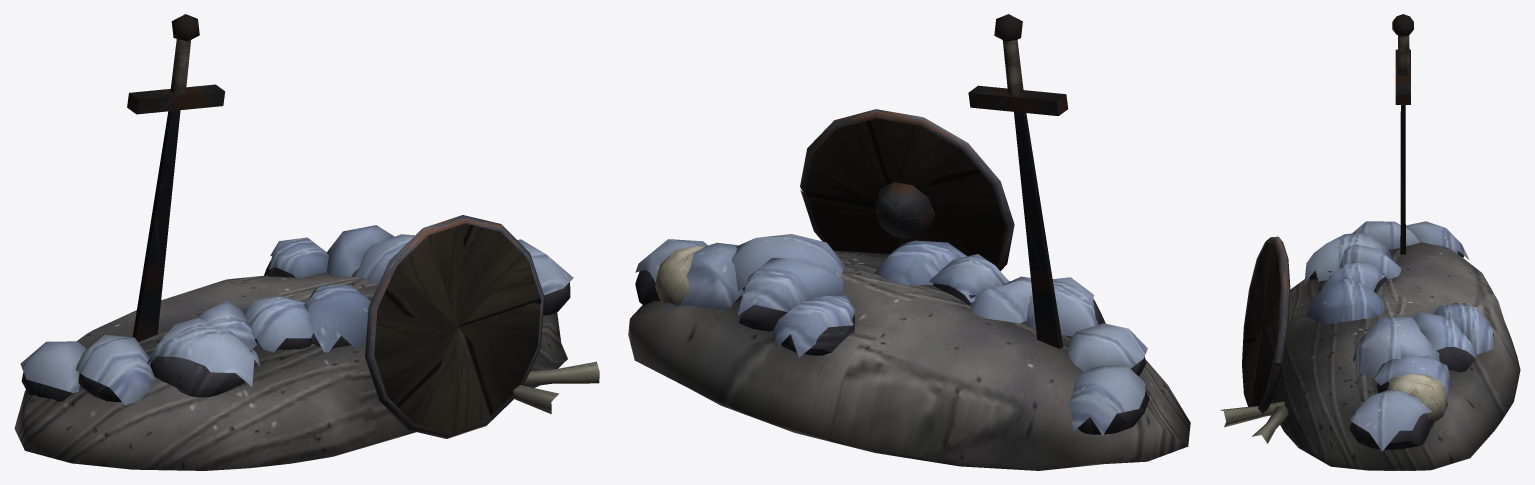
File: helheim_cairn_b.glb
3 renders of one model, left to right at view 1: azimuth 30°, elevation 25°; view 2: azimuth 150°, elevation 25°; view 3: azimuth 270°, elevation 25°, orthographic. The views are drawn at different scales.
Visible parts, largest first — view 1: helheim_cairn_b; view 2: helheim_cairn_b; view 3: helheim_cairn_b.
Boxes of the visible parts, left/top/right/bottom form: helheim_cairn_b: left=14, top=14, right=599, bottom=470; helheim_cairn_b: left=628, top=14, right=1190, bottom=470; helheim_cairn_b: left=1220, top=14, right=1520, bottom=470.
Bounding box in the file's own units: 1.99 × 1.38 × 1.18.
8 materials, 7 textured.
